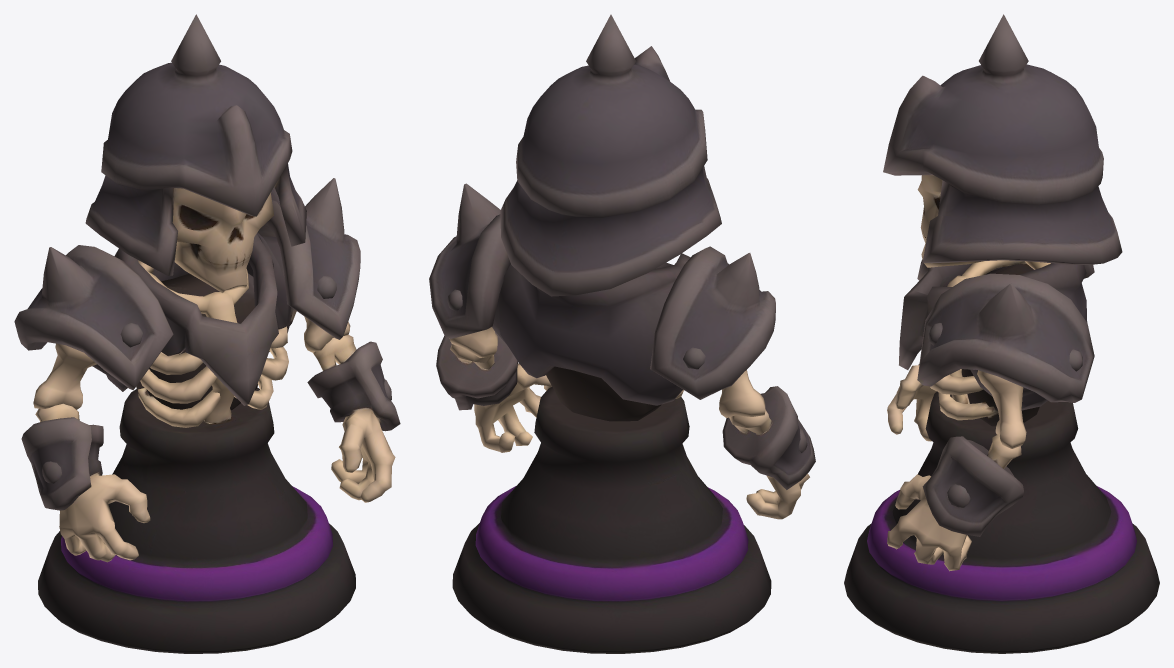
Rendered from enemy_skeleton.glb.
The picture shows the model from 3 angles, left to right: view 1: azimuth 30°, elevation 25°; view 2: azimuth 150°, elevation 25°; view 3: azimuth 270°, elevation 25°; orthographic projection.
Parts seen in each view (by area): view 1: tripo_node_a67f726c-065d-43de-995c-5adba180e54e; view 2: tripo_node_a67f726c-065d-43de-995c-5adba180e54e; view 3: tripo_node_a67f726c-065d-43de-995c-5adba180e54e.
Part boxes in pixels (<box>): tripo_node_a67f726c-065d-43de-995c-5adba180e54e: <box>14,14,400,653</box>; tripo_node_a67f726c-065d-43de-995c-5adba180e54e: <box>429,14,815,653</box>; tripo_node_a67f726c-065d-43de-995c-5adba180e54e: <box>844,14,1159,653</box>.
Size of the model in its own units: 0.6362 by 0.9995 by 0.4985.
Materials: 1 (1 with a texture image).
